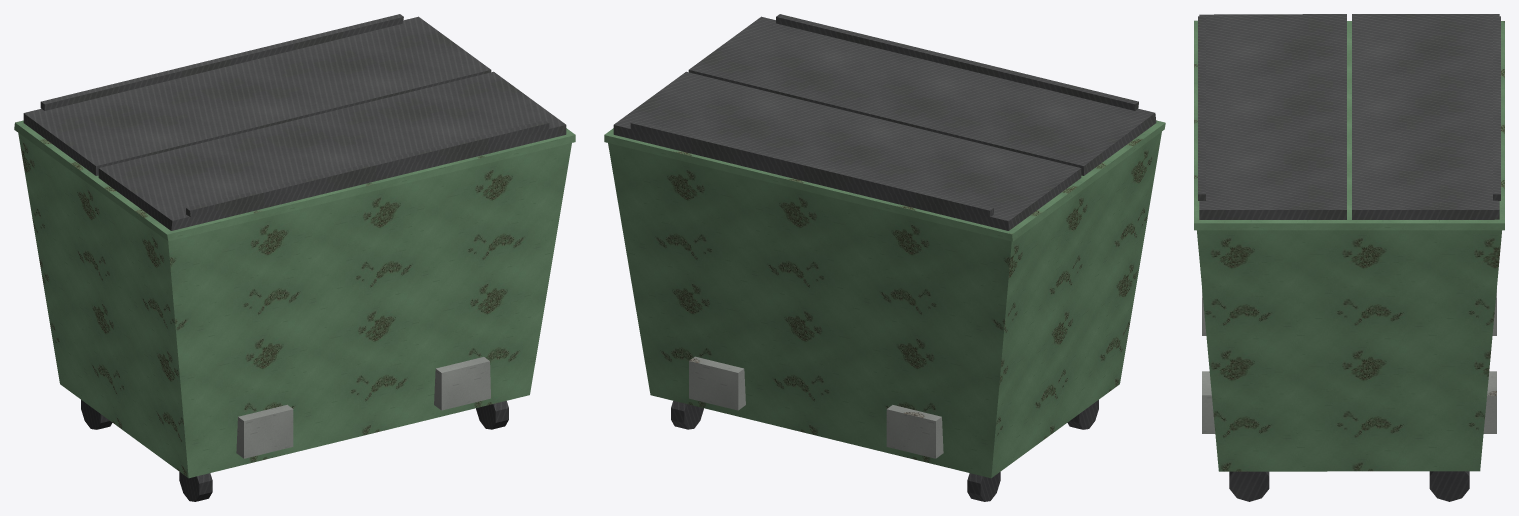
File: dumpster_v3.glb
The picture shows the model from 3 angles, left to right: view 1: azimuth 30°, elevation 25°; view 2: azimuth 150°, elevation 25°; view 3: azimuth 270°, elevation 25°; orthographic projection.
Visible parts, largest first — view 1: Variant_dumpster_3; view 2: Variant_dumpster_3; view 3: Variant_dumpster_3.
Boxes of the visible parts, x1,y1,x2,y2 form: Variant_dumpster_3: (14, 14, 575, 501); Variant_dumpster_3: (604, 14, 1165, 501); Variant_dumpster_3: (1194, 14, 1504, 501).
Bounding box in the file's own units: 1.82 × 1.34 × 1.18.
4 materials, 4 textured.
